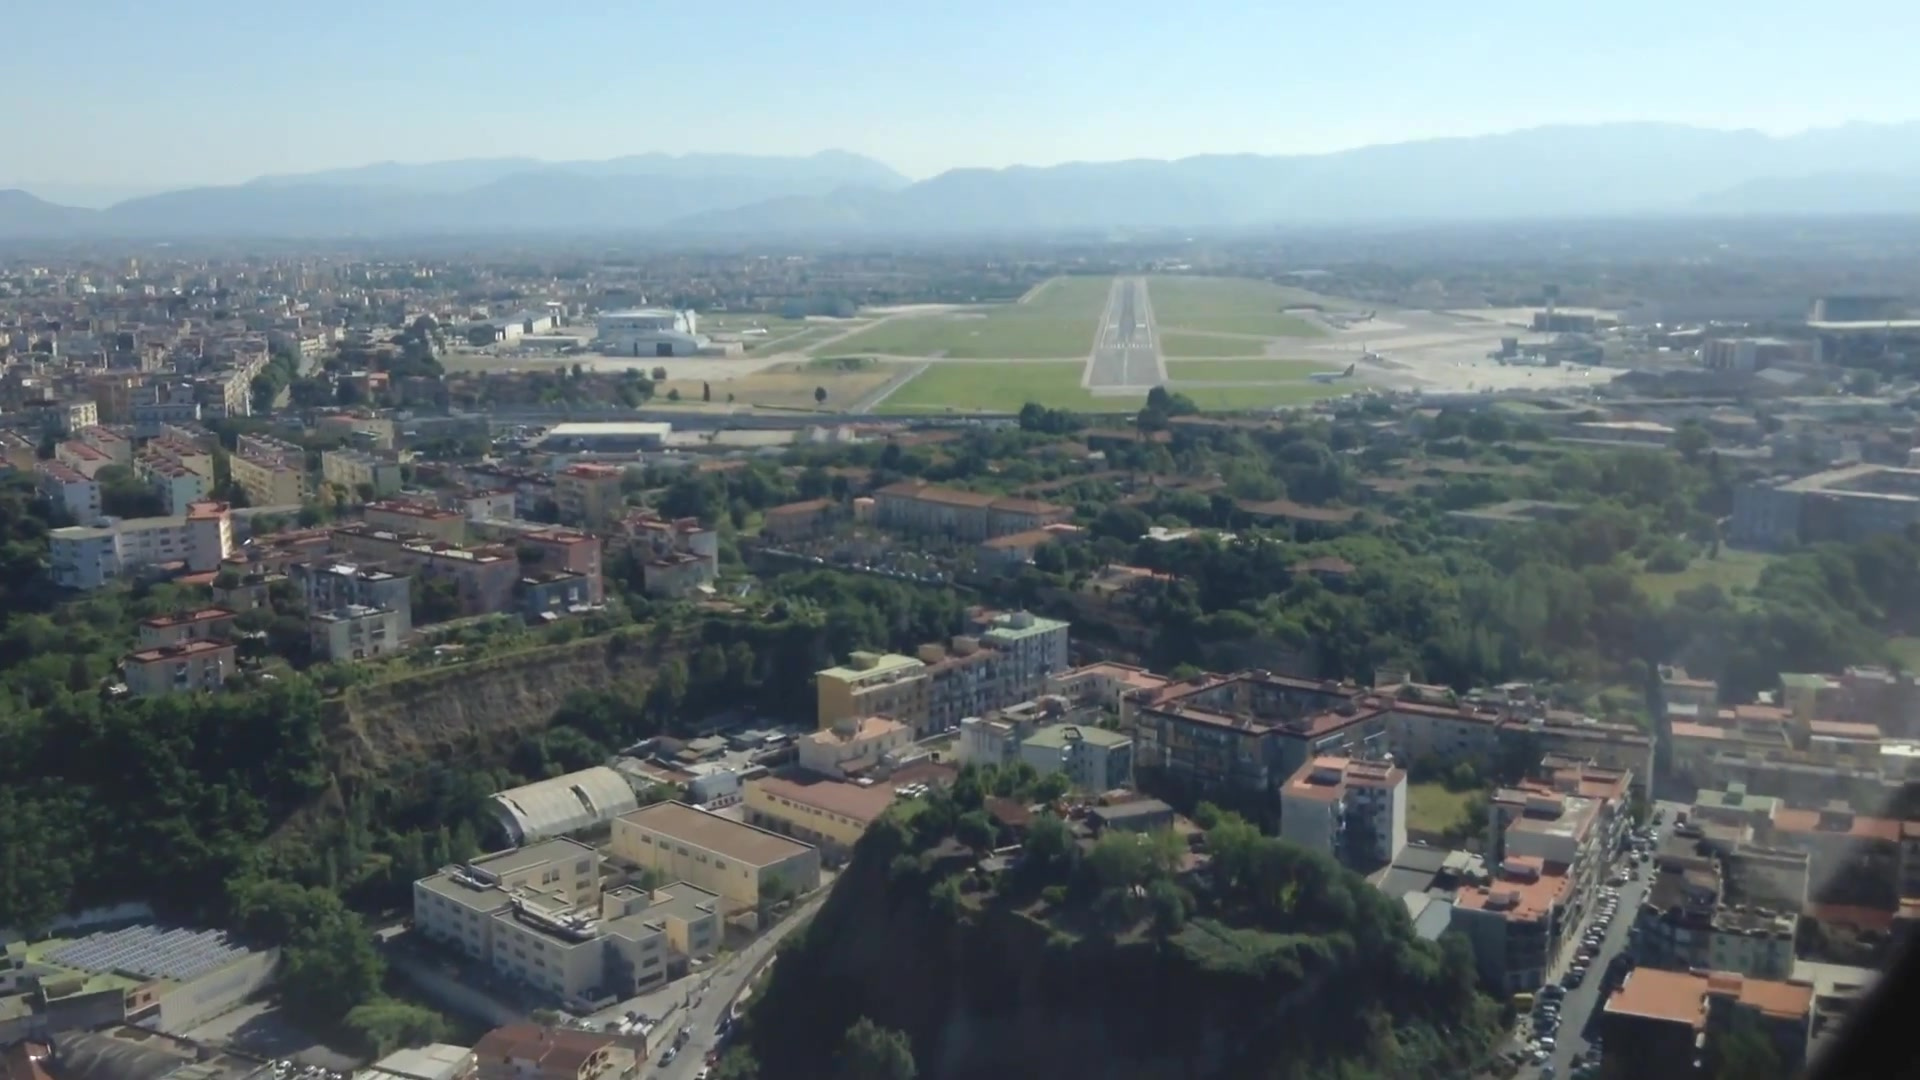runway: (1084, 276, 1167, 392)
